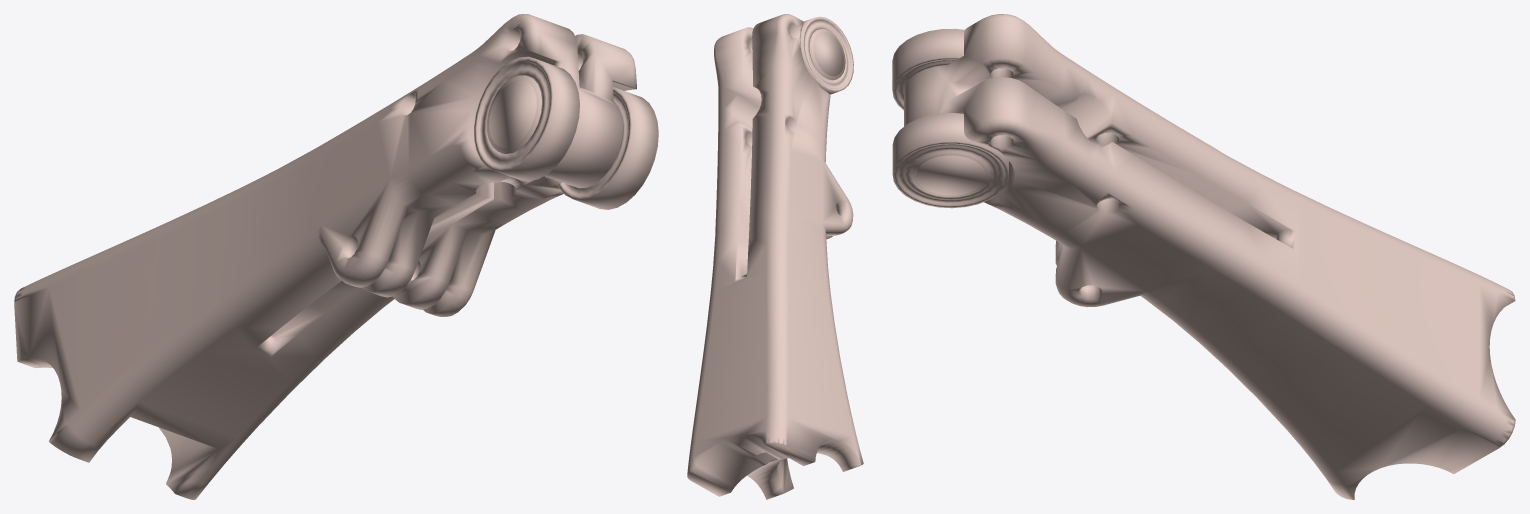
The model's file is thumb_plp_1.obj.
3 views of the same model, side by side, from view 1: azimuth 30°, elevation 25°; view 2: azimuth 150°, elevation 25°; view 3: azimuth 270°, elevation 25° (orthographic). The views are drawn at different scales.
Size of the model in its own units: 38.7 by 52.85 by 53.46.
